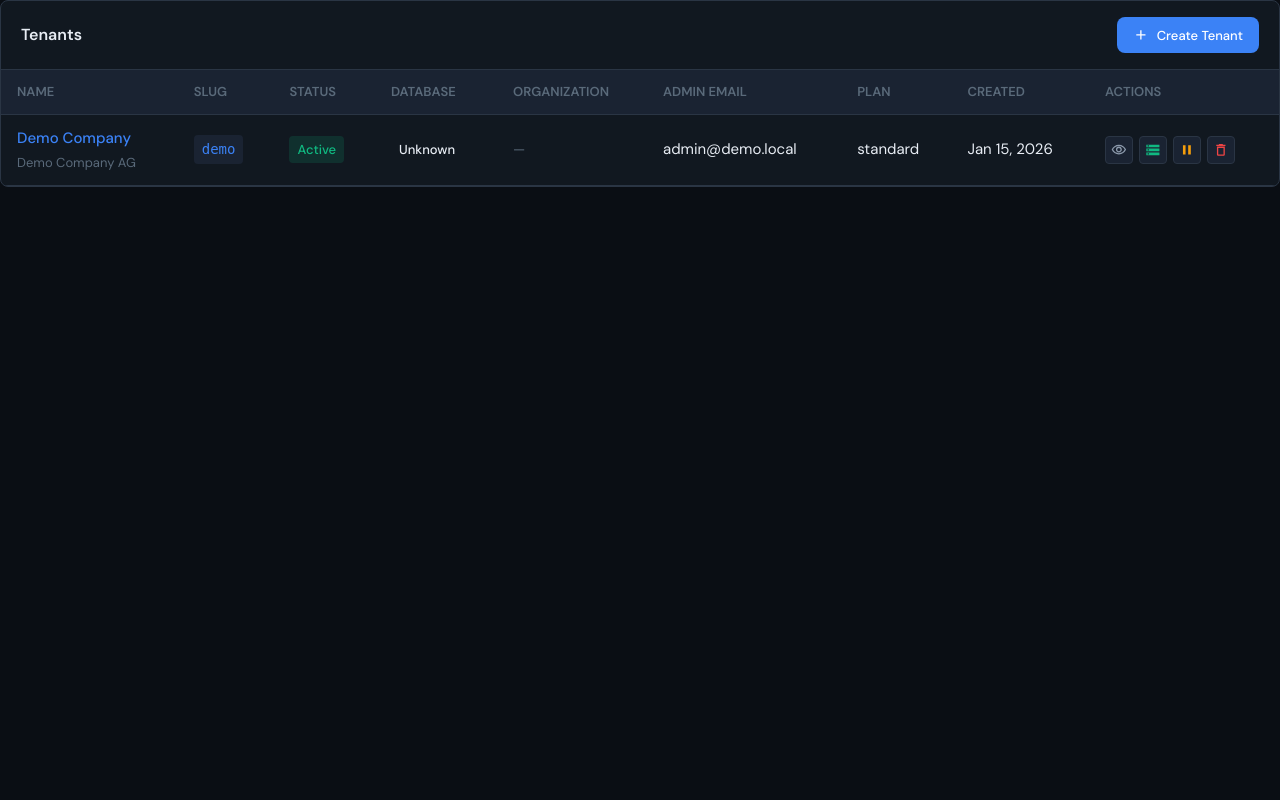
Scenario: TenantList › shows a failed provision in place
Click the button titled "Provision Database" at coordinates (1153, 150), box [1139,136,1167,164]
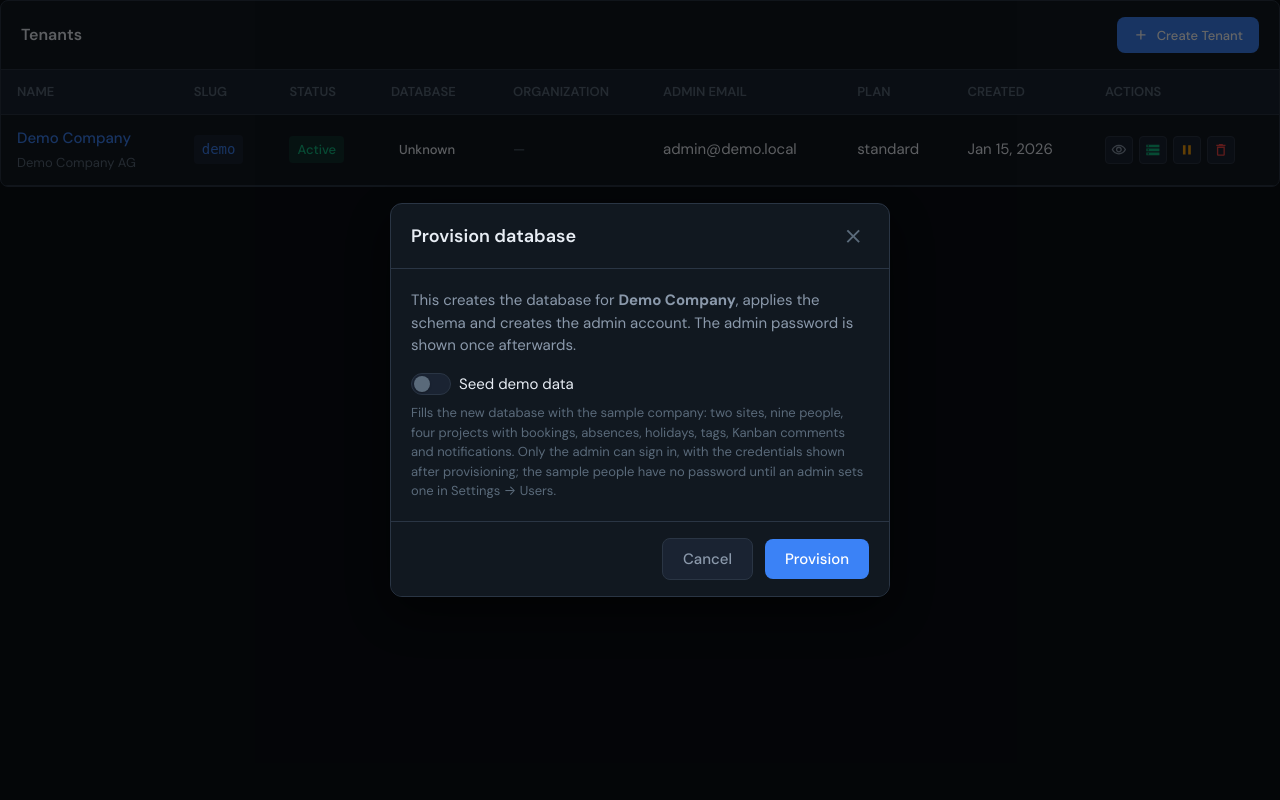
Click the button "Provision" at coordinates (817, 559), box [765,539,869,579]
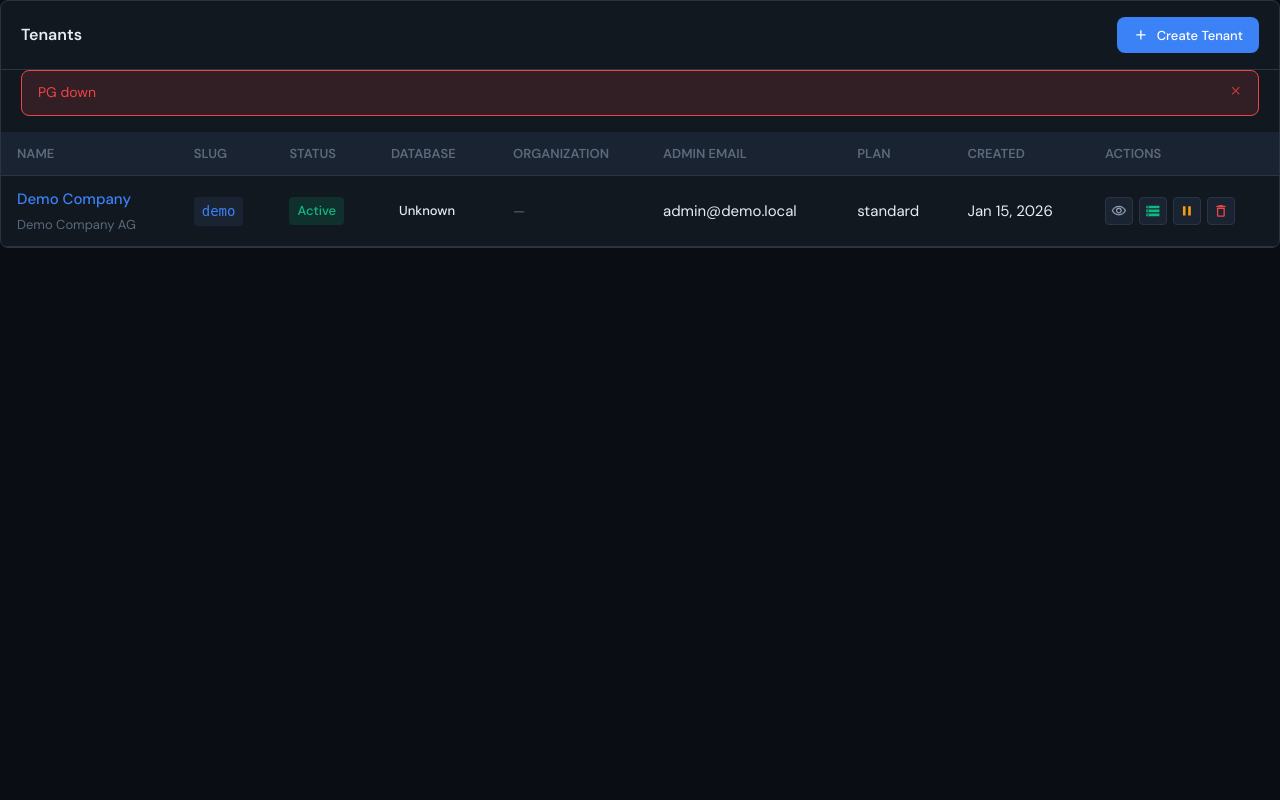
Expected: the message reads "PG down", [38,83,96,101]
